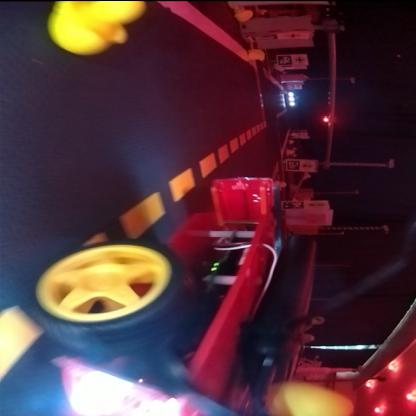Duckie: (48, 1, 145, 55), (266, 380, 357, 415), (236, 8, 252, 21), (247, 50, 264, 60), (286, 149, 294, 155)
Duckiebot: (23, 177, 303, 415), (286, 92, 298, 106)
Intersection sign: (283, 32, 305, 38), (297, 54, 306, 64)
QR code: (250, 34, 278, 40), (285, 201, 305, 209), (278, 55, 292, 65), (288, 160, 302, 169)
Signal sign: (304, 161, 316, 170), (312, 201, 326, 207)
